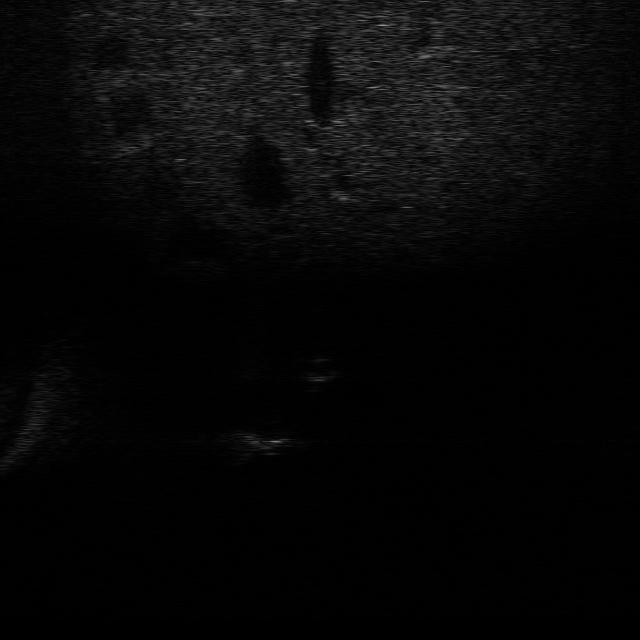ball: (295, 353, 344, 385)
square cage: (222, 424, 308, 464)
